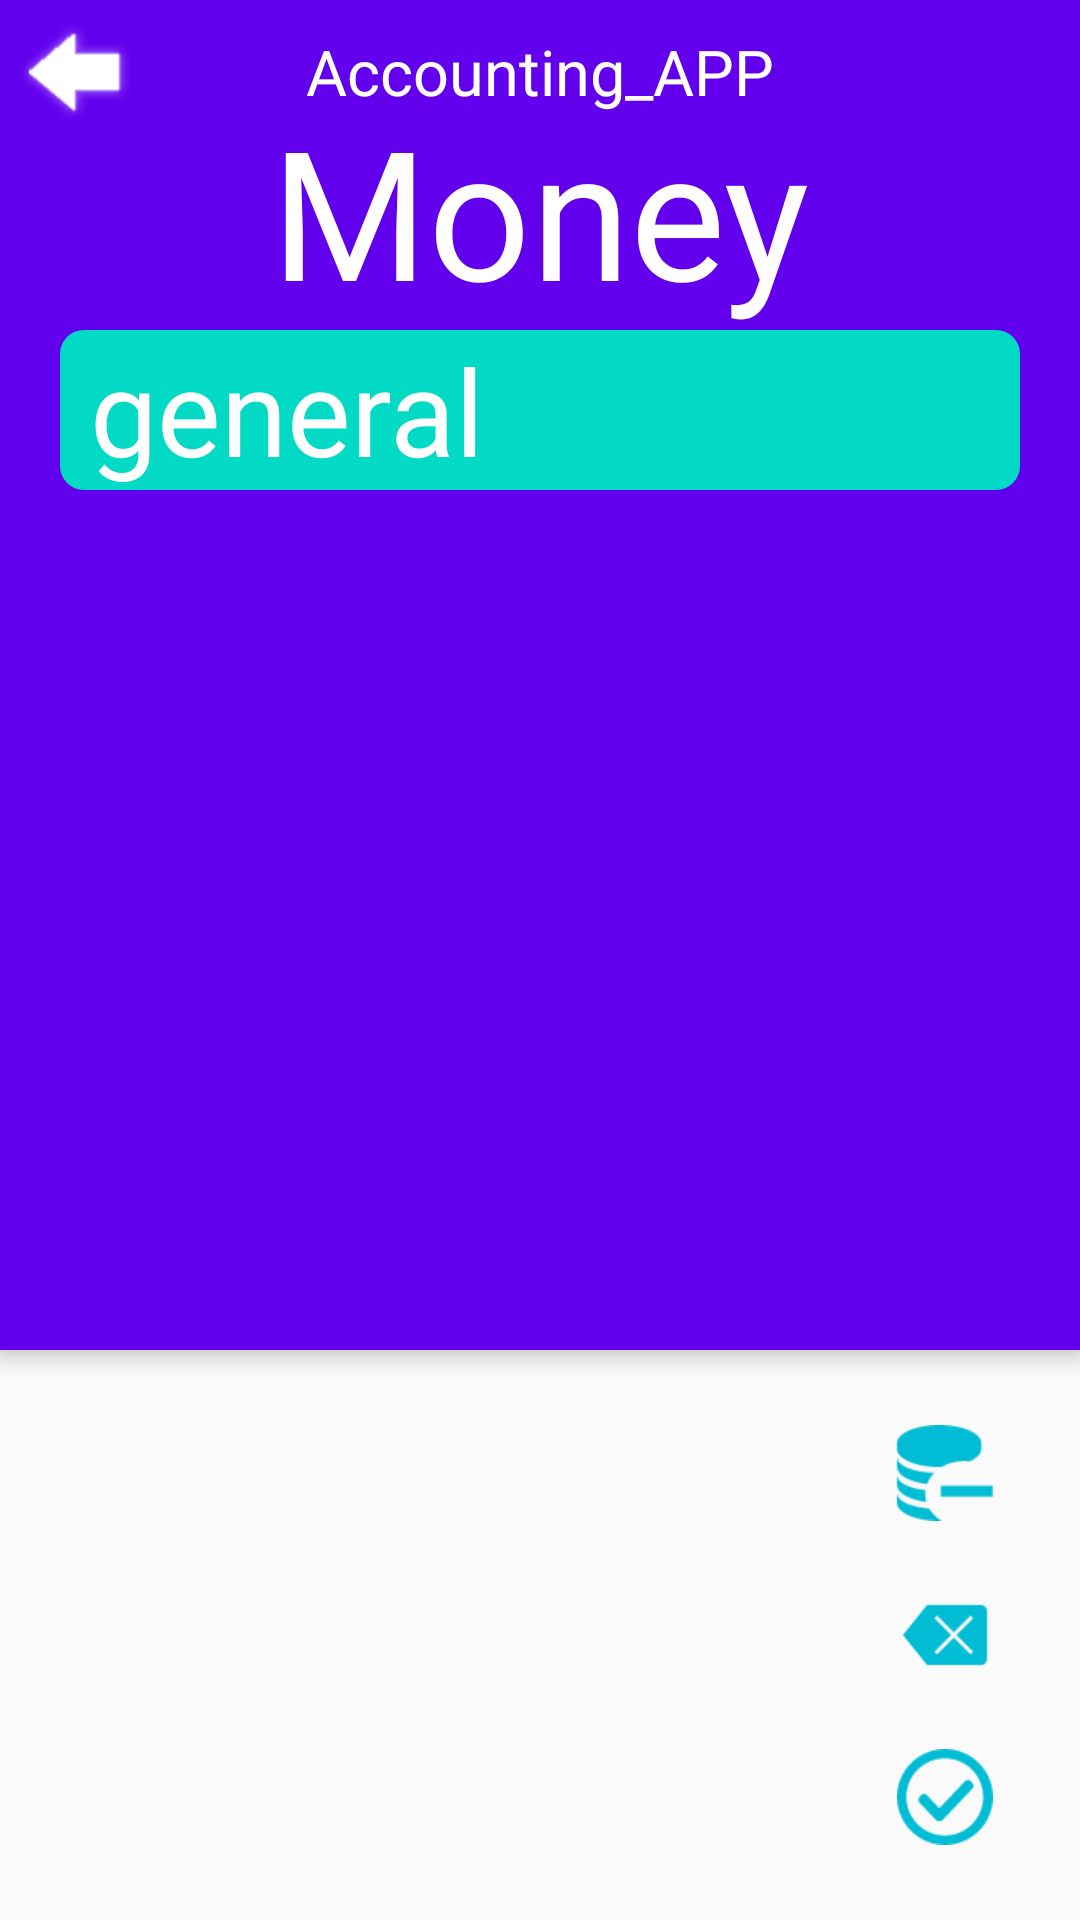

Named icons in this screenshot (1080px x 1920px) and their bounding boxes, bbox(x1, y1, x2, y2):
back: bbox(27, 32, 125, 113)
backspace: bbox(902, 1604, 988, 1666)
cost: bbox(896, 1425, 994, 1521)
done: bbox(897, 1749, 993, 1845)
